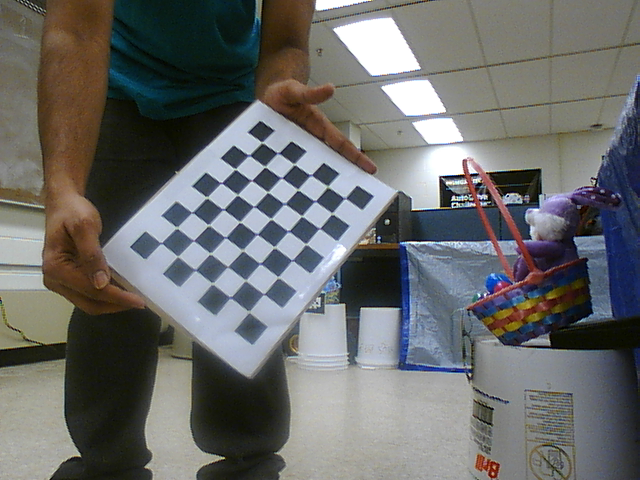bunny: (451, 147, 603, 348)
